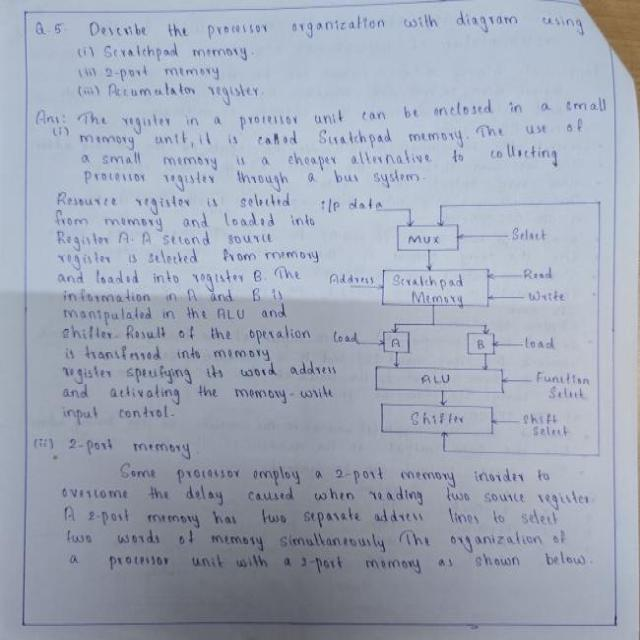Figure Detection - v3 Dataset Version2: (314, 185, 620, 465)
